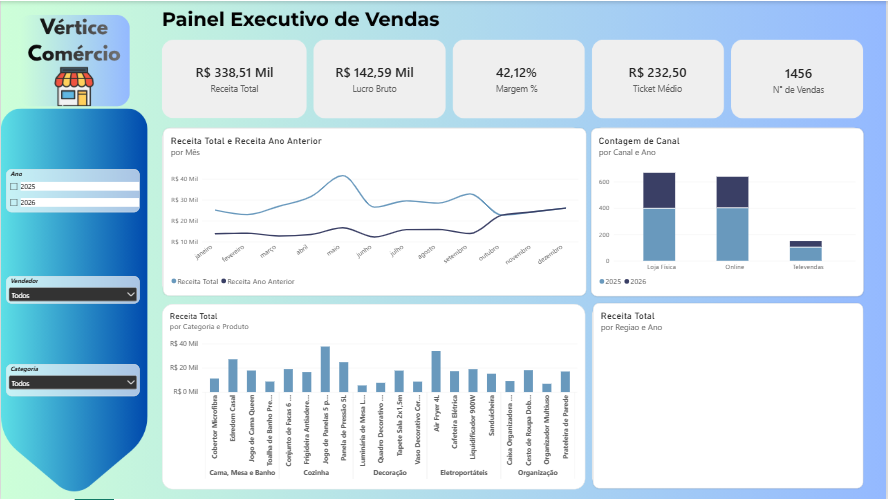

This screenshot's page, from the dashboard's own definition file:
{"tool":"powerbi","page":{"name":"Painel de Vendas","canvas":[1920,1080],"ordinal":0},"visuals":[{"type":"card","fields":{"Values":["Medidas.Receita Total"]},"box":[352.5,85,305.6,167.8],"z":0},{"type":"card","fields":{"Values":["Medidas.Lucro Bruto"]},"box":[657.5,85,305.6,167.8],"z":1000},{"type":"card","fields":{"Values":["Medidas.Margem %"]},"box":[965,85,305.6,167.8],"z":2000},{"type":"card","fields":{"Values":["Medidas.Ticket Médio"]},"box":[1270,84,305.6,167.8],"z":3000},{"type":"card","fields":{"Values":["Medidas.N° de Vendas"]},"box":[1576,86,305.6,167.8],"z":4000},{"type":"lineChart","fields":{"Category":["Calendario.Date.Variation.Hierarquia de datas.Mês"],"Y":["Medidas.Receita Total","Medidas.Receita Ano Anterior"]},"box":[352.2,275.6,917.8,364.4],"z":5000},{"type":"clusteredColumnChart","fields":{"Category":["Produtos.Categoria","Produtos.Produto"],"Y":["Medidas.Receita Total"]},"box":[350,656.7,918,402],"z":5001},{"type":"slicer","fields":{"Values":["Vendedores.Vendedor"]},"box":[10,596.2,290,60],"z":5002},{"type":"azureMap","fields":{"Category":["Vendedores.Regiao"],"Series":["Calendario.Date.Variation.Hierarquia de datas.Ano"],"Size":["Medidas.Receita Total"]},"box":[1284,656,586,402],"z":5003},{"type":"columnChart","fields":{"Category":["Vendas.Canal"],"Series":["Calendario.Date.Variation.Hierarquia de datas.Ano"],"Y":["CountNonNull(Vendas.Canal)"]},"box":[1278.8,275,591.2,365],"z":5004},{"type":"slicer","fields":{"Values":["Calendario.Date.Variation.Hierarquia de datas.Ano"]},"box":[10,363.8,290,93.8],"z":5005},{"type":"slicer","fields":{"Values":["Produtos.Categoria"]},"box":[10,787.1,290,70],"z":5006}]}

Visuals, with their boxes in screenshot pixels (x1, y1, x2, y2), scaled from the page's 1920x1080 canvas onto the 888x500 screenshot:
card - Medidas.Receita Total: locate(163, 39, 304, 117)
card - Medidas.Lucro Bruto: locate(304, 39, 445, 117)
card - Medidas.Margem %: locate(446, 39, 588, 117)
card - Medidas.Ticket Médio: locate(587, 39, 729, 117)
card - Medidas.N° de Vendas: locate(729, 40, 870, 118)
lineChart - Calendario.Date.Variation.Hierarquia de datas.Mês x Medidas.Receita Total: locate(163, 128, 587, 296)
clusteredColumnChart - Produtos.Categoria x Produtos.Produto: locate(162, 304, 586, 490)
slicer - Vendedores.Vendedor: locate(5, 276, 139, 304)
azureMap - Vendedores.Regiao x Calendario.Date.Variation.Hierarquia de datas.Ano: locate(594, 304, 865, 490)
columnChart - Vendas.Canal x Calendario.Date.Variation.Hierarquia de datas.Ano: locate(591, 127, 865, 296)
slicer - Calendario.Date.Variation.Hierarquia de datas.Ano: locate(5, 168, 139, 212)
slicer - Produtos.Categoria: locate(5, 364, 139, 397)
